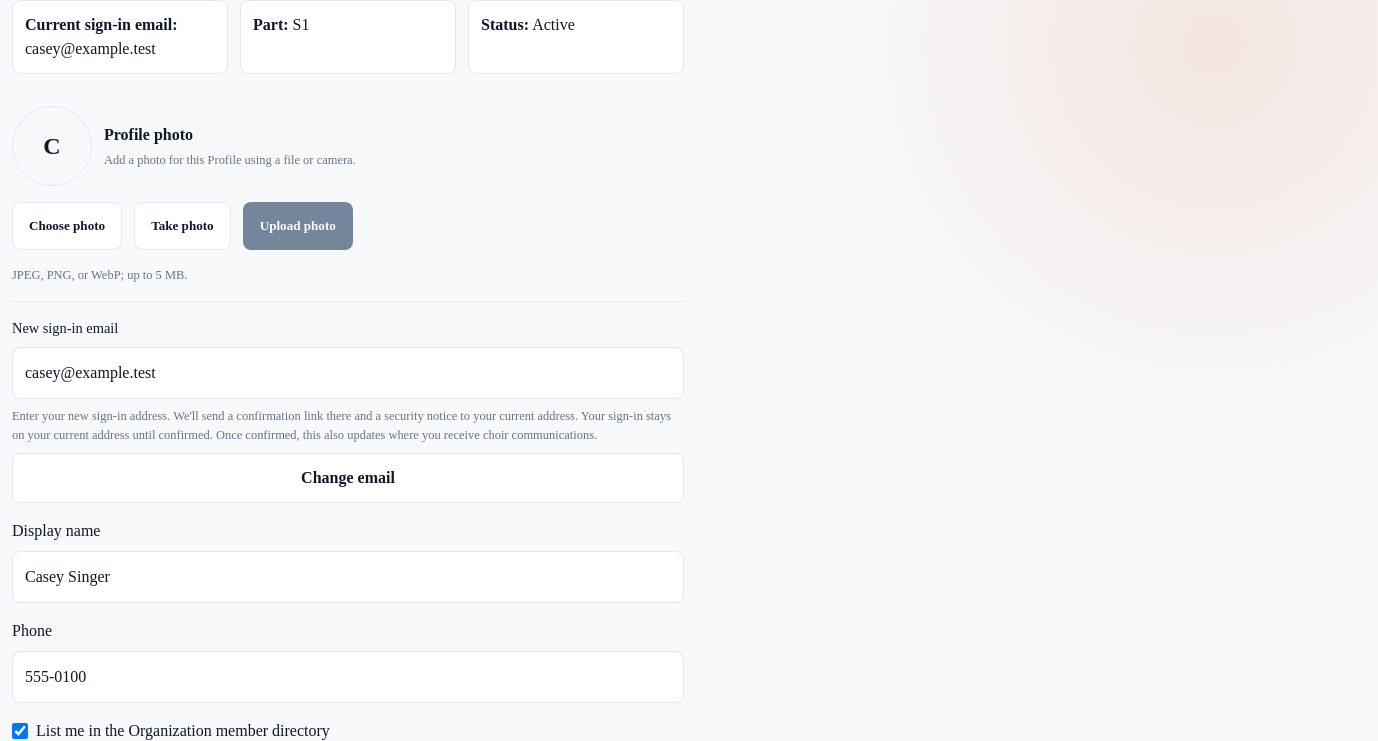
Test: MemberProfileDirectory email-change verification (#198) › validates empty email or missing @ with an alert before submitting
The image size is (1378, 741).
Expected: the field labelled "Display name" is shown, [12,551,684,603]
Clear the field labelled "New sign-in email": (348, 373) [12,347,684,399]
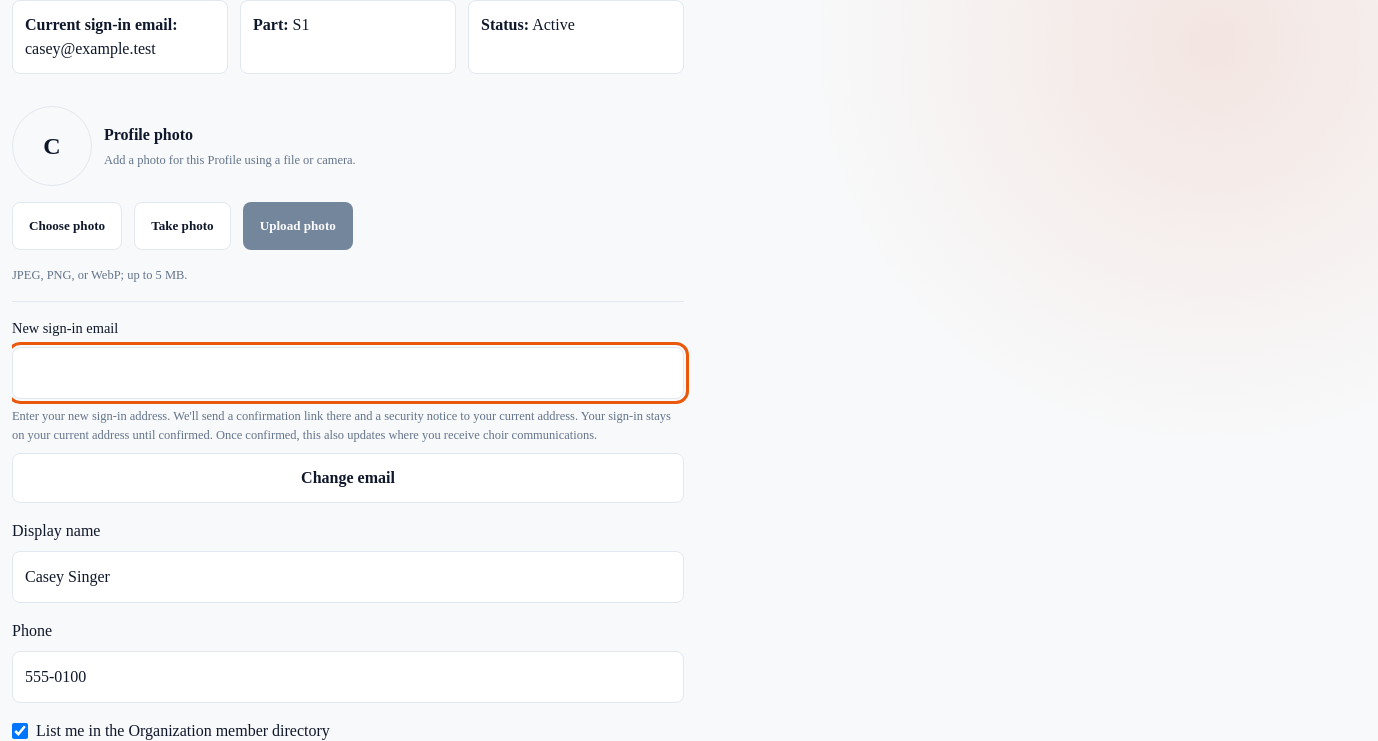
Click the button "Change email": (348, 478) [12,453,684,503]
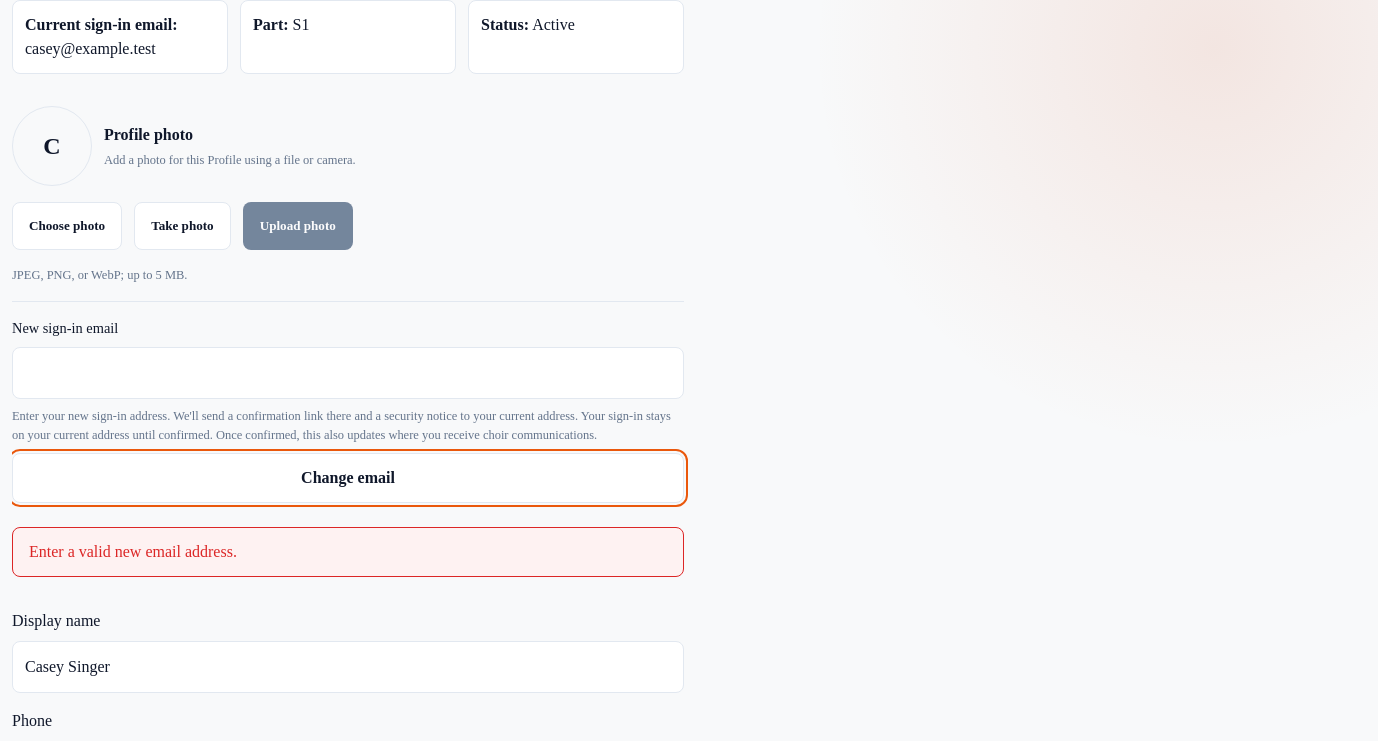
Result: the message reads "Enter a valid new email address." at [29,543,237,560]
